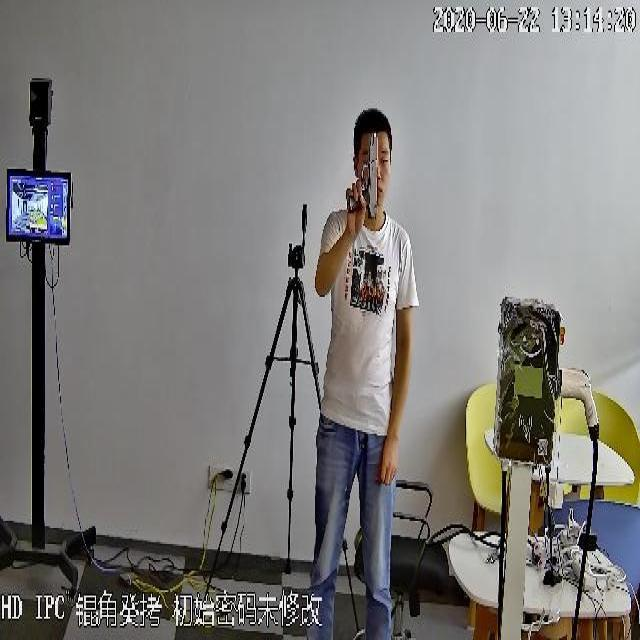pistol: (344, 132, 384, 221)
